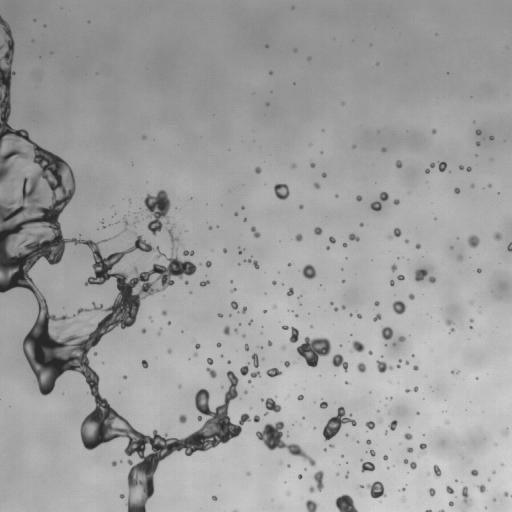droplet: (143, 190, 170, 235), (322, 406, 356, 440), (296, 337, 331, 367), (335, 494, 357, 511), (366, 481, 386, 498), (240, 363, 261, 378), (281, 325, 298, 343), (262, 398, 281, 414), (332, 354, 347, 371), (274, 183, 289, 199), (301, 264, 316, 279), (376, 360, 393, 373), (392, 300, 406, 314), (381, 326, 393, 339), (305, 499, 318, 511), (361, 461, 375, 472), (266, 367, 281, 377), (415, 269, 427, 281), (352, 340, 364, 352), (468, 235, 479, 248), (389, 228, 401, 238), (251, 353, 259, 367), (251, 226, 260, 237), (433, 465, 441, 477), (357, 362, 366, 372), (437, 162, 446, 171), (389, 420, 397, 430), (348, 234, 359, 241), (419, 443, 426, 454), (230, 301, 238, 310), (365, 421, 374, 429), (476, 484, 485, 492), (314, 227, 322, 235), (493, 232, 501, 240), (179, 414, 186, 423), (373, 314, 381, 321), (320, 400, 327, 408), (404, 433, 412, 440), (470, 469, 478, 476), (446, 486, 453, 494), (428, 488, 435, 496), (200, 280, 209, 286), (223, 326, 229, 335), (395, 160, 402, 167), (295, 234, 302, 241), (287, 287, 293, 295), (445, 319, 453, 325), (142, 360, 148, 368), (254, 167, 261, 173), (329, 236, 335, 243), (205, 260, 211, 267), (391, 264, 397, 271), (429, 276, 435, 283), (240, 306, 246, 313), (283, 361, 290, 367), (502, 428, 508, 435), (356, 195, 362, 201), (297, 394, 303, 400), (369, 450, 375, 456), (397, 275, 404, 280), (398, 336, 405, 341), (504, 491, 511, 496), (476, 129, 481, 135), (314, 182, 319, 188), (454, 187, 459, 193), (132, 219, 137, 225), (408, 294, 414, 299), (412, 386, 418, 391), (406, 447, 412, 452), (381, 147, 386, 152), (394, 199, 399, 204), (476, 268, 481, 273), (162, 310, 167, 315), (195, 343, 200, 348), (413, 365, 418, 370), (366, 439, 371, 444), (212, 495, 217, 500), (390, 280, 394, 286), (357, 312, 361, 318), (245, 344, 248, 351), (310, 163, 315, 167), (466, 167, 471, 171), (374, 301, 379, 305), (449, 328, 454, 332), (268, 341, 272, 346), (405, 360, 409, 365), (383, 455, 387, 460), (112, 461, 116, 466), (358, 484, 363, 488), (449, 501, 453, 506), (432, 129, 436, 133), (459, 165, 463, 169), (322, 173, 326, 177), (299, 204, 303, 208), (343, 243, 347, 247), (416, 244, 420, 248), (458, 255, 462, 259), (184, 280, 188, 284), (231, 288, 235, 292), (334, 307, 338, 311), (218, 313, 222, 317), (469, 318, 473, 322), (217, 343, 221, 347), (167, 349, 171, 353), (368, 350, 372, 354), (405, 389, 409, 393), (298, 474, 302, 478), (286, 491, 290, 495), (120, 494, 124, 498), (239, 249, 242, 254), (249, 319, 252, 324), (282, 345, 285, 350), (345, 472, 348, 477), (307, 56, 310, 60), (489, 136, 493, 139), (292, 164, 295, 168), (405, 239, 408, 243), (223, 248, 226, 252), (272, 281, 276, 284), (142, 329, 145, 333), (123, 375, 126, 379), (269, 71, 272, 74), (476, 142, 479, 145), (471, 184, 474, 187), (360, 223, 363, 226), (208, 226, 211, 229), (326, 246, 329, 249), (288, 263, 291, 266), (298, 295, 301, 298), (273, 305, 276, 308), (342, 306, 345, 309), (263, 310, 266, 313), (149, 317, 152, 320), (234, 329, 237, 332), (259, 345, 262, 348), (194, 353, 197, 356), (345, 381, 348, 384), (445, 420, 448, 423), (330, 444, 333, 447), (247, 472, 250, 475), (143, 135, 145, 139), (101, 220, 103, 224), (402, 497, 404, 501), (488, 184, 490, 187), (335, 194, 337, 197), (241, 206, 244, 208), (235, 212, 237, 215), (330, 302, 333, 304), (295, 314, 297, 317), (470, 326, 472, 329), (157, 332, 160, 334), (94, 352, 96, 355), (227, 361, 230, 363), (248, 380, 251, 382), (178, 385, 181, 387), (244, 391, 247, 393), (492, 471, 495, 473), (402, 488, 405, 490), (294, 49, 296, 51), (266, 103, 268, 105), (342, 102, 344, 104), (353, 146, 355, 148), (129, 200, 131, 202), (243, 218, 245, 220), (115, 235, 117, 237), (199, 263, 201, 265), (342, 280, 344, 282), (168, 322, 170, 324), (243, 334, 245, 336), (385, 431, 387, 433), (336, 473, 338, 475), (455, 479, 457, 481)
ligament: (0, 16, 260, 511), (256, 421, 315, 466), (308, 470, 323, 493), (370, 192, 388, 211), (206, 358, 216, 378), (245, 257, 259, 268), (403, 458, 416, 469), (461, 486, 469, 503), (425, 163, 435, 173), (123, 218, 128, 231), (183, 250, 194, 255), (507, 242, 511, 251), (397, 359, 401, 368), (451, 370, 459, 374), (425, 509, 432, 511), (439, 509, 445, 511), (233, 510, 237, 511)
